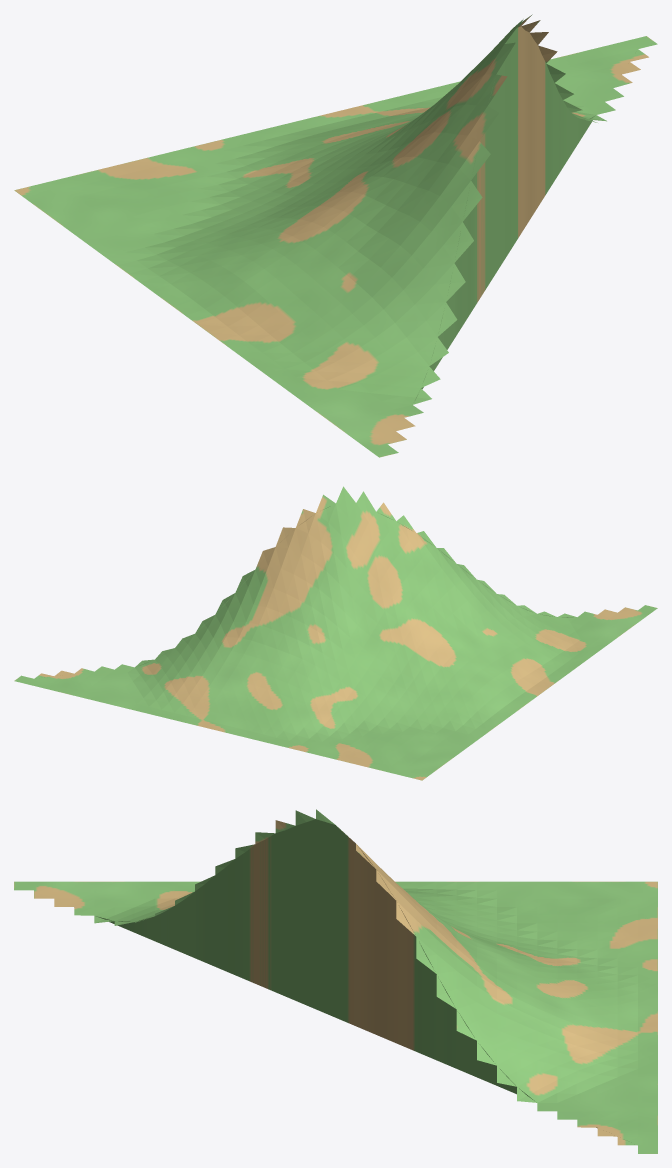
File: Grass_Hills_06_SW.obj
The picture shows the model from 3 angles, top to bottom: view 1: azimuth 30°, elevation 25°; view 2: azimuth 150°, elevation 25°; view 3: azimuth 270°, elevation 25°; orthographic projection. The views are drawn at different scales.
Size of the model in its own units: 10 by 3.58 by 10.
1 material, 1 textured.
